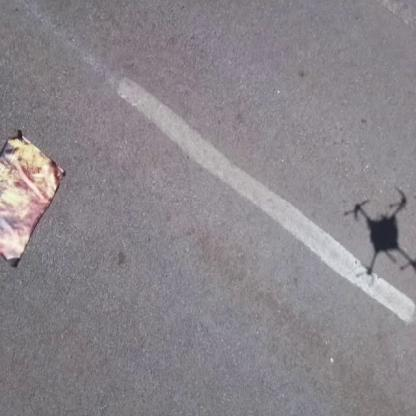fire-poster: (0, 127, 66, 267)
